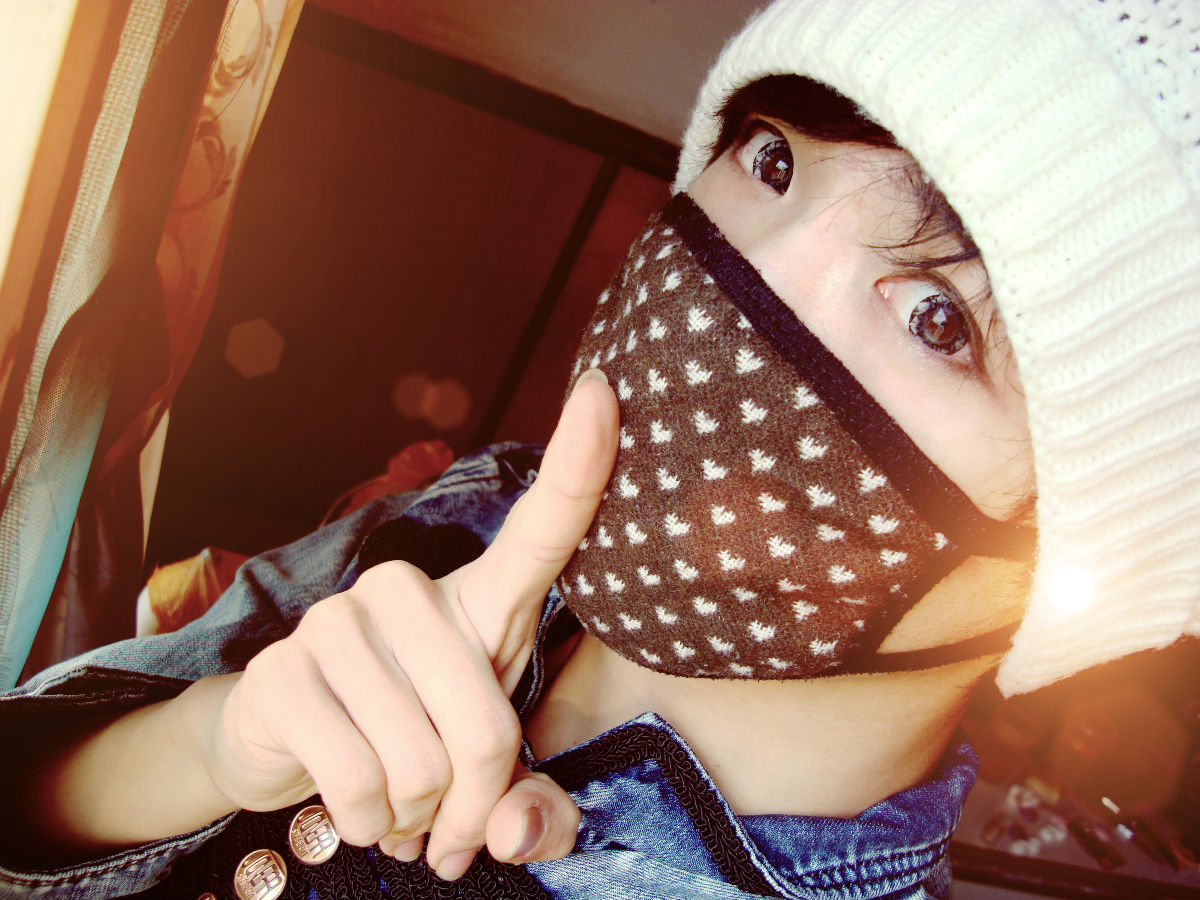face_mask: (553, 53, 1013, 725)
